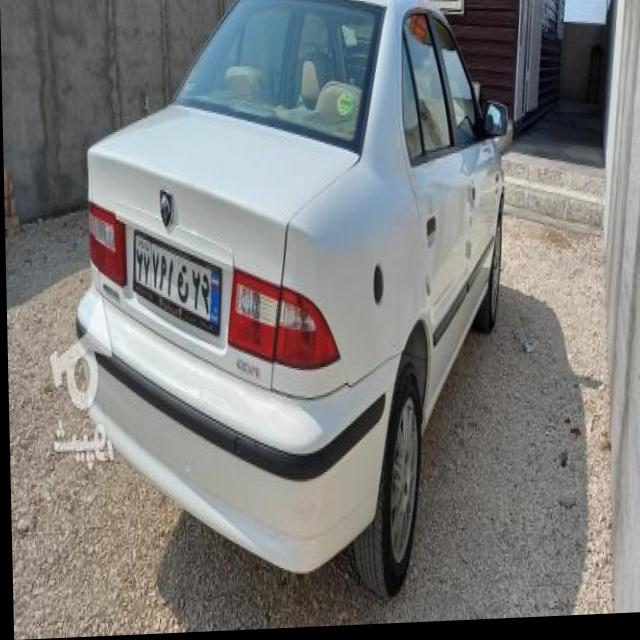licence: (132, 230, 224, 342)
